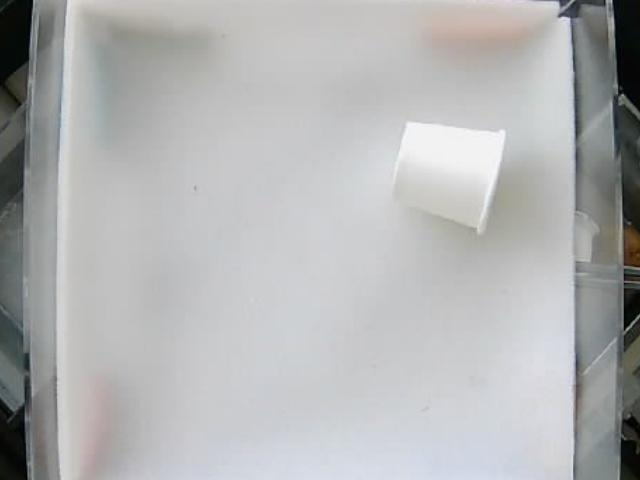Cup: (388, 121, 508, 235)
